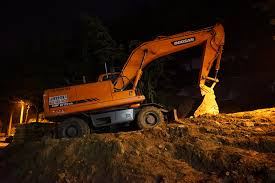excavator: (41, 24, 230, 140)
